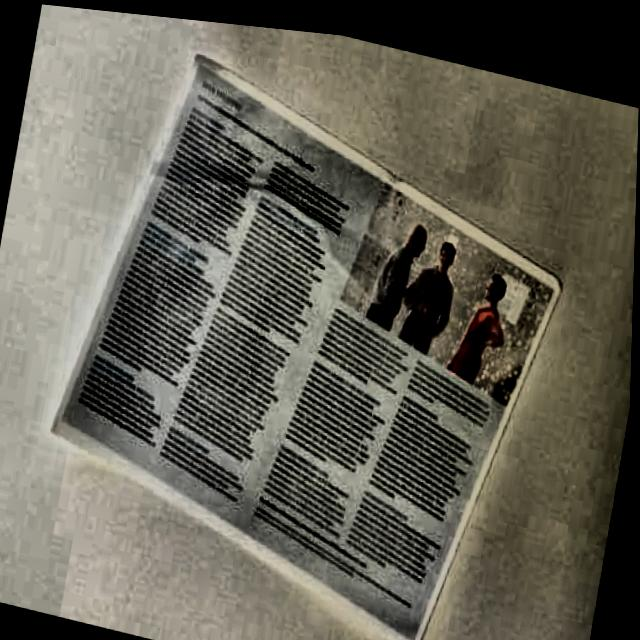Paper: (11, 8, 595, 640)
